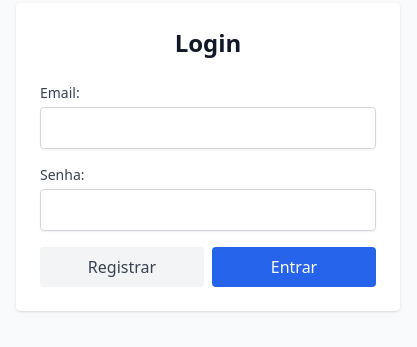
it: LoginPage › should show error message on login failure
Type "test@email.com" into the field labelled "Email:". click: (208, 128)
box: [40,107,376,149]
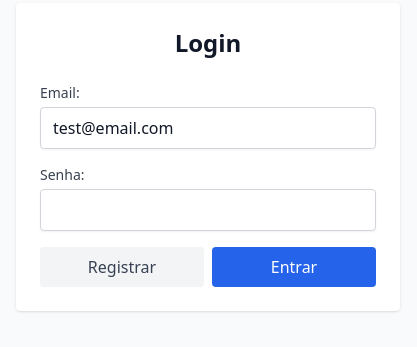
Type "123456" into the password field labelled "Senha:". click: (208, 210)
box: [40,189,376,231]
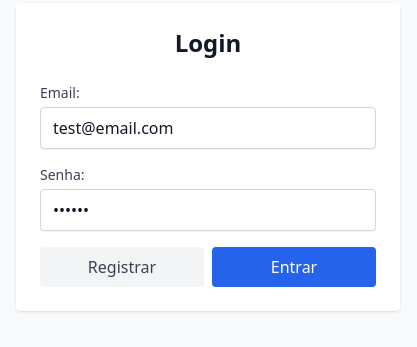
Click the button "Entrar". click: (294, 267)
box: [212,247,376,287]
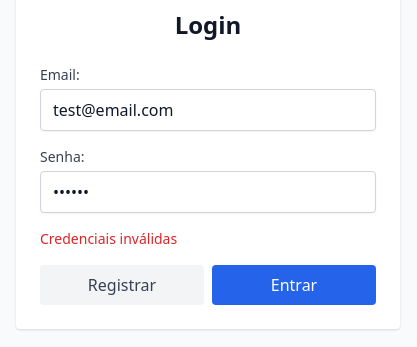
Expected: the text "Credenciais inválidas" is shown, [40,229,177,248]
